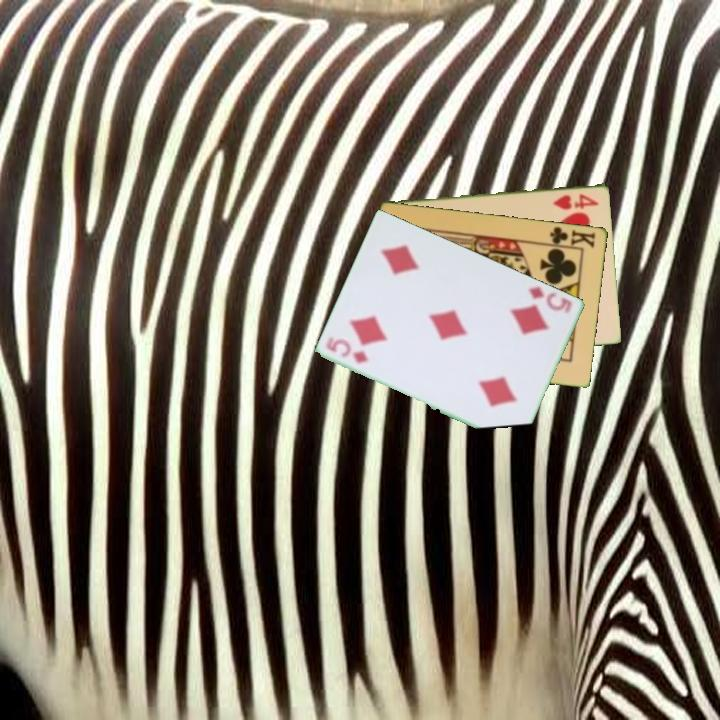4h: (550, 190, 602, 212)
5d: (525, 283, 576, 316), (323, 334, 372, 366)
Kc: (543, 223, 598, 251)
